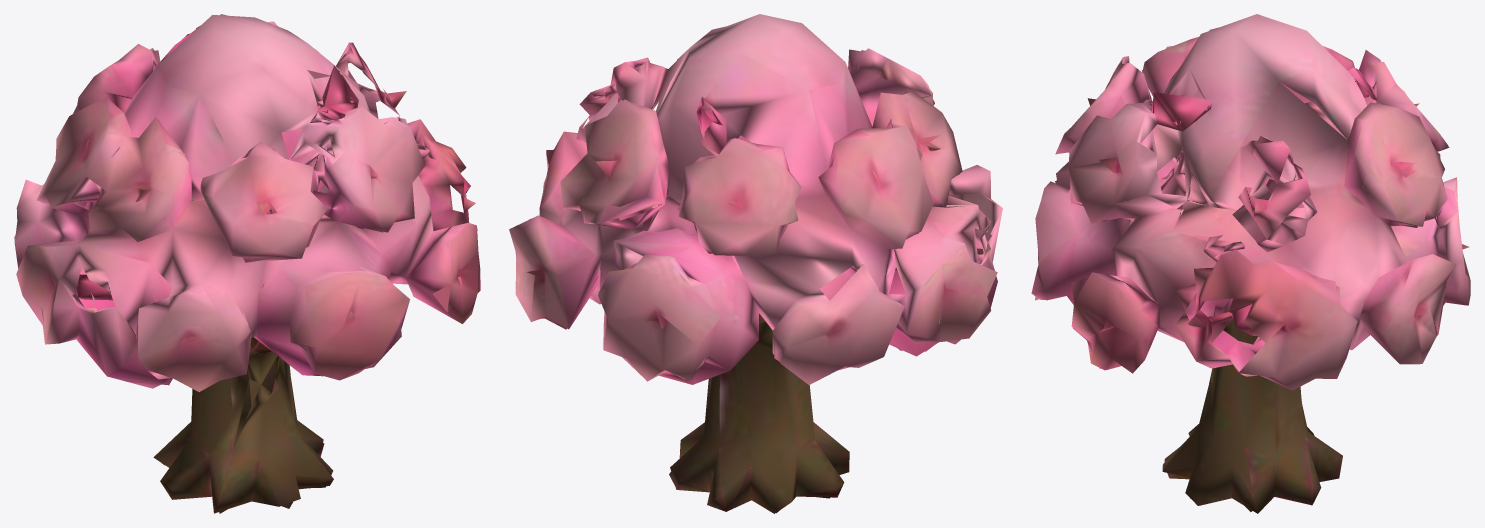
Rendered from x-tree-cherry-blossom.glb.
3 renders of one model, left to right at view 1: azimuth 30°, elevation 25°; view 2: azimuth 150°, elevation 25°; view 3: azimuth 270°, elevation 25°, orthographic.
Parts seen in each view (by area): view 1: geometry_0; view 2: geometry_0; view 3: geometry_0.
Boxes of the visible parts, x1,y1,x2,y2 form: geometry_0: (14,14,480,513); geometry_0: (509,14,1002,513); geometry_0: (1031,14,1470,513).
Size of the model in its own units: 0.9827 by 1 by 0.871.
1 material, 1 textured.
